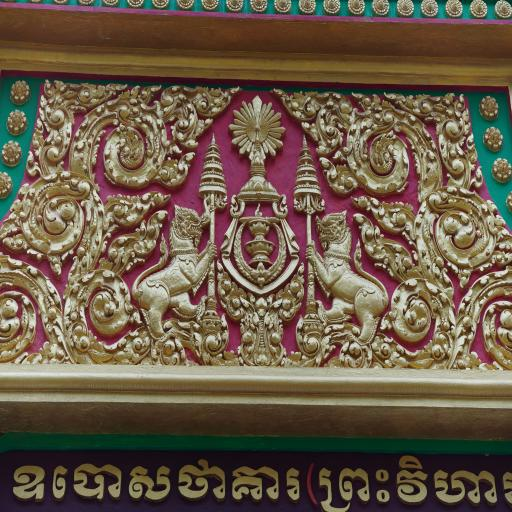hoa: (480, 122, 508, 152), (479, 92, 502, 124), (492, 151, 512, 186), (442, 0, 463, 21), (468, 0, 488, 21), (345, 0, 367, 18), (418, 0, 440, 18), (320, 0, 342, 17), (493, 0, 512, 19), (273, 0, 293, 18), (298, 0, 318, 18), (396, 0, 415, 18), (369, 0, 389, 17), (222, 0, 244, 14), (249, 0, 268, 16), (150, 0, 172, 11), (174, 0, 196, 11), (199, 0, 220, 11), (124, 0, 144, 11), (505, 186, 512, 216), (100, 0, 121, 8)
la: (342, 104, 443, 200), (10, 165, 94, 264), (416, 187, 510, 274), (0, 250, 69, 364), (65, 270, 146, 366), (377, 274, 459, 368), (76, 100, 163, 187), (453, 257, 512, 375), (351, 213, 418, 283), (279, 90, 351, 155), (358, 210, 414, 288), (434, 113, 488, 190), (350, 191, 422, 243), (36, 80, 70, 164), (186, 74, 240, 122), (390, 88, 464, 121), (328, 316, 370, 373), (167, 96, 210, 147), (290, 311, 328, 361), (317, 155, 353, 201), (164, 142, 196, 191), (205, 310, 232, 359), (158, 329, 190, 368)
